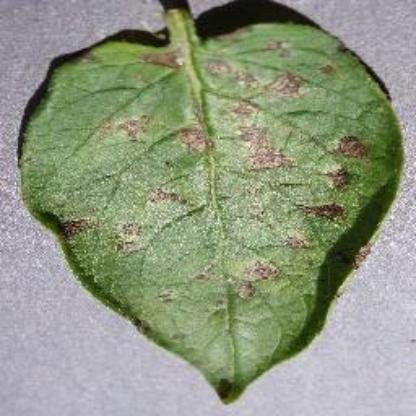Early-Blight: (20, 3, 404, 405)
